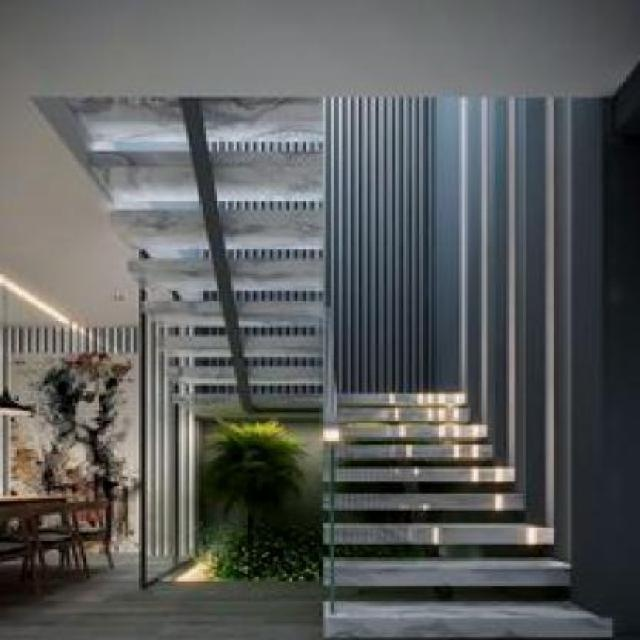stair: (31, 94, 629, 638)
